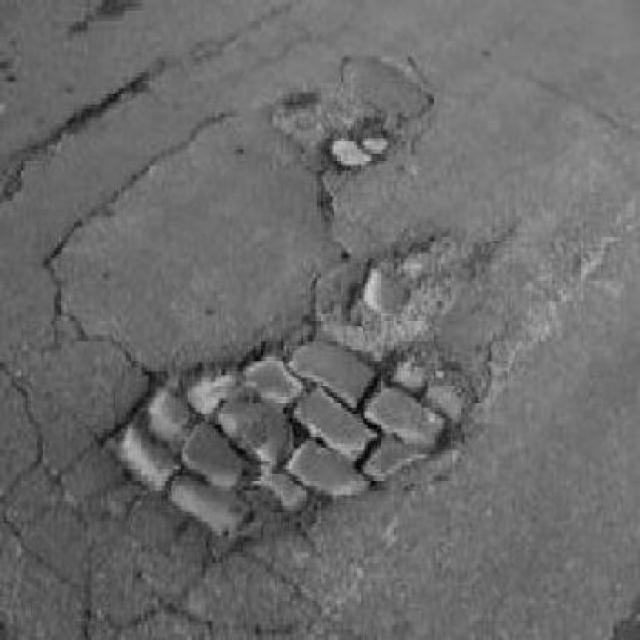Pothole: (97, 329, 478, 553), (337, 227, 469, 346), (325, 115, 393, 171)
